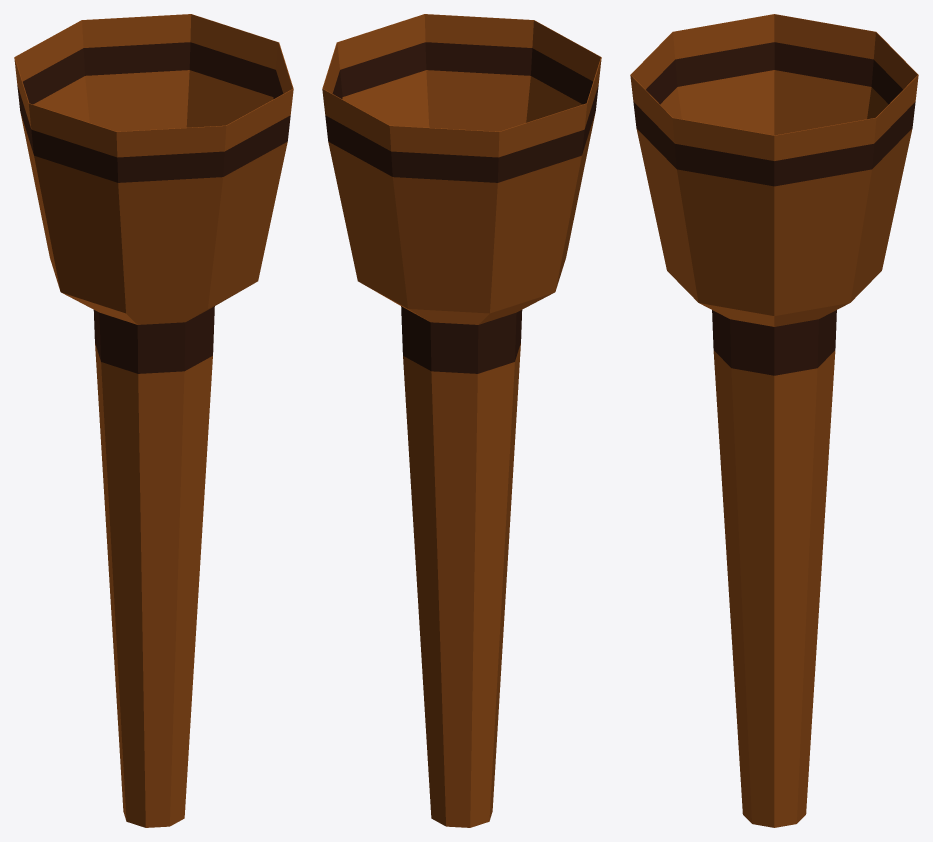
File: torche.fbx
3 views of the same model, side by side, from view 1: azimuth 30°, elevation 25°; view 2: azimuth 150°, elevation 25°; view 3: azimuth 270°, elevation 25° (orthographic).
Parts seen in each view (by area): view 1: Cylinder; view 2: Cylinder; view 3: Cylinder.
Boxes of the visible parts, x1,y1,x2,y2 form: Cylinder: [14, 14, 293, 827]; Cylinder: [322, 14, 601, 827]; Cylinder: [630, 14, 918, 827].
Bounding box in the file's own units: 377 × 1067 × 377.
